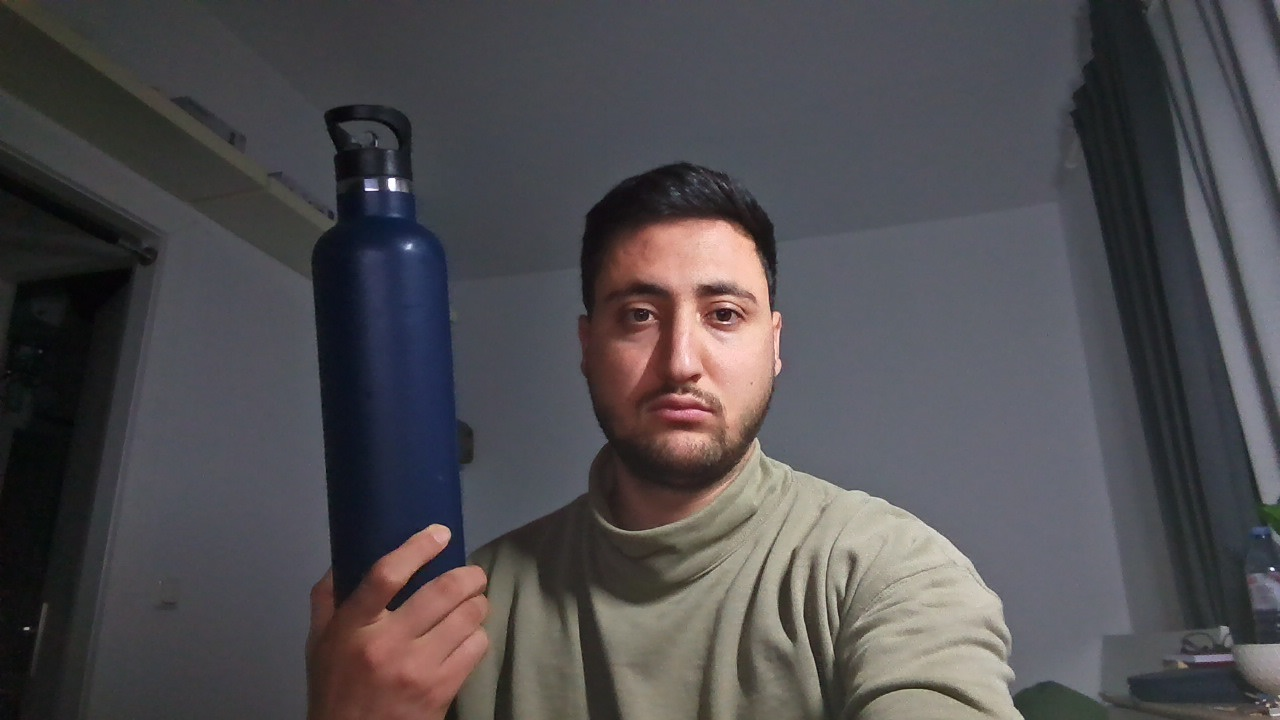me: (273, 89, 501, 609), (547, 137, 807, 517)
